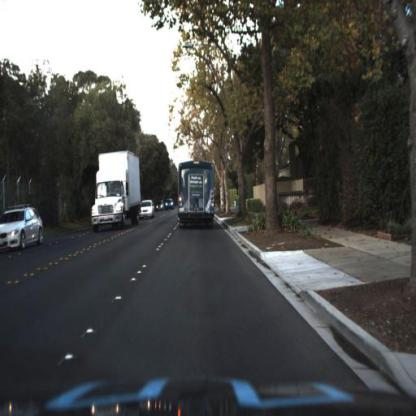car: (87, 149, 143, 237), (2, 207, 46, 259), (140, 200, 155, 220)
truck: (90, 149, 145, 233), (177, 159, 217, 232)
